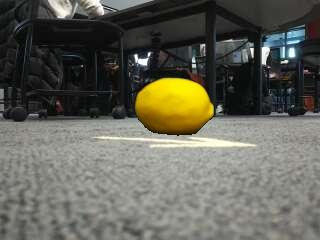lemon: (136, 78, 214, 134)
